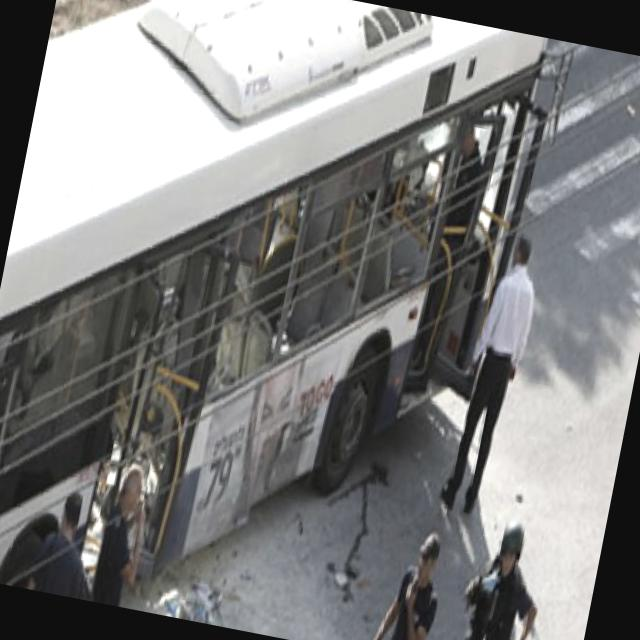Person: (437, 229, 552, 514), (402, 116, 489, 402), (451, 515, 559, 640), (85, 456, 159, 608), (370, 525, 457, 640), (31, 491, 109, 599)
